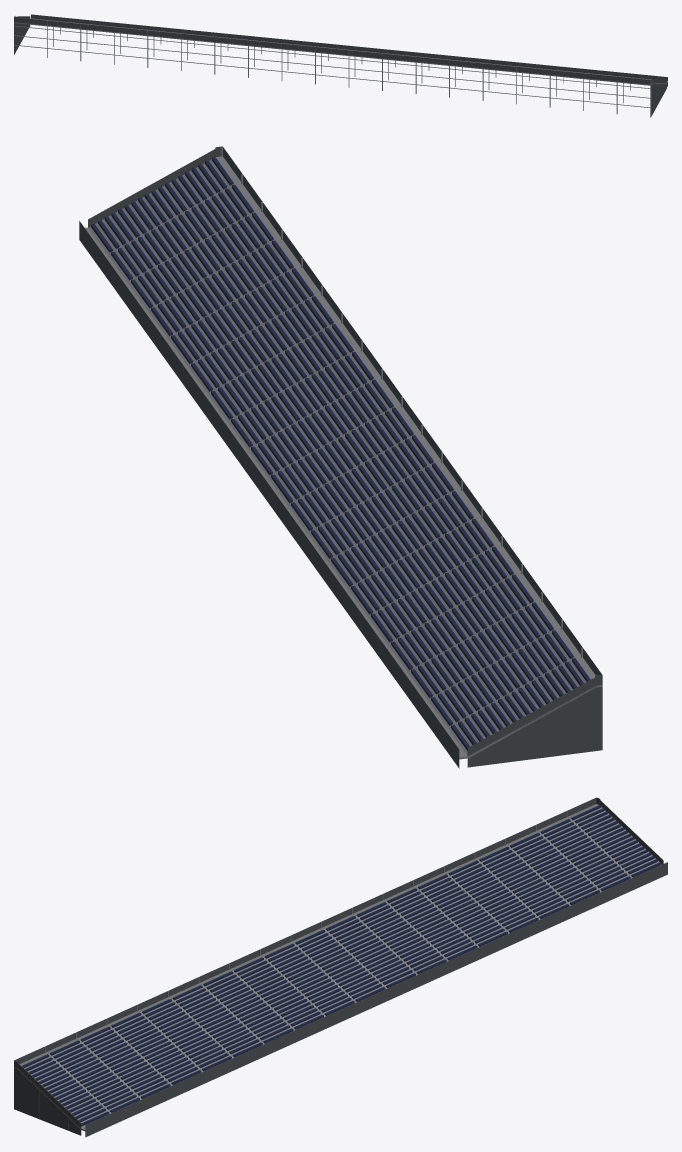
Rendered from sil_stand_vale.glb.
The picture shows the model from 3 angles, top to bottom: view 1: azimuth 30°, elevation 25°; view 2: azimuth 150°, elevation 25°; view 3: azimuth 270°, elevation 25°; orthographic projection. The views are drawn at different scales.
Visible parts, largest first — view 1: silverstone-vale; view 2: silverstone-vale; view 3: silverstone-vale.
Part boxes in pixels (x1,y1,x2,y2): silverstone-vale: (14,14,667,117); silverstone-vale: (79,146,602,768); silverstone-vale: (14,797,667,1137).
Size of the model in its own units: 121 by 9.44 by 115.
